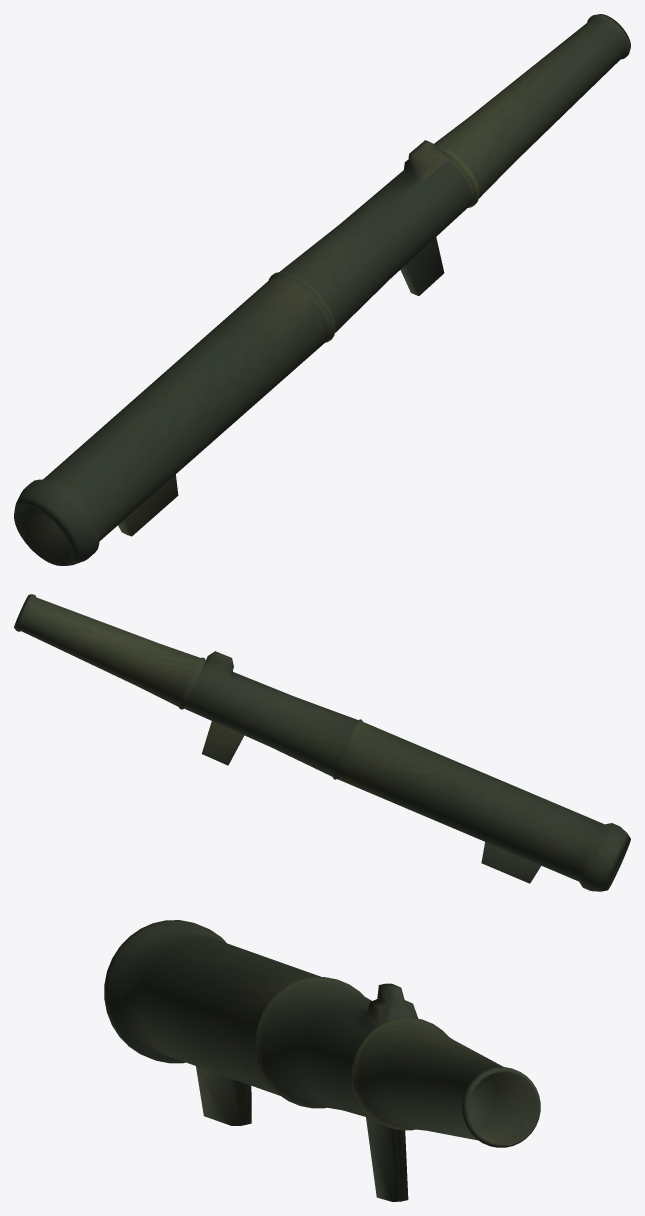
The model's file is weapon.obj.
3 views of the same model, one above another, from view 1: azimuth 30°, elevation 25°; view 2: azimuth 150°, elevation 25°; view 3: azimuth 270°, elevation 25° (orthographic). The views are drawn at different scales.
Visible parts, largest first — view 1: Cylinder.001; view 2: Cylinder.001; view 3: Cylinder.001.
Part boxes in pixels (<box>): Cylinder.001: <box>14,14,630,565</box>; Cylinder.001: <box>14,594,630,891</box>; Cylinder.001: <box>104,920,540,1201</box>.
Size of the model in its own units: 2.97 by 1.25 by 1.06.
